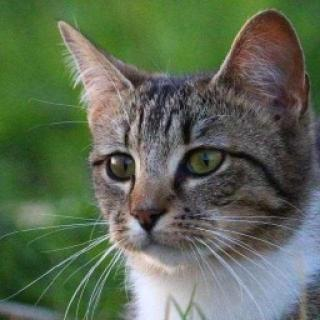cat: (53, 21, 320, 278)
nose: (126, 189, 176, 236)
